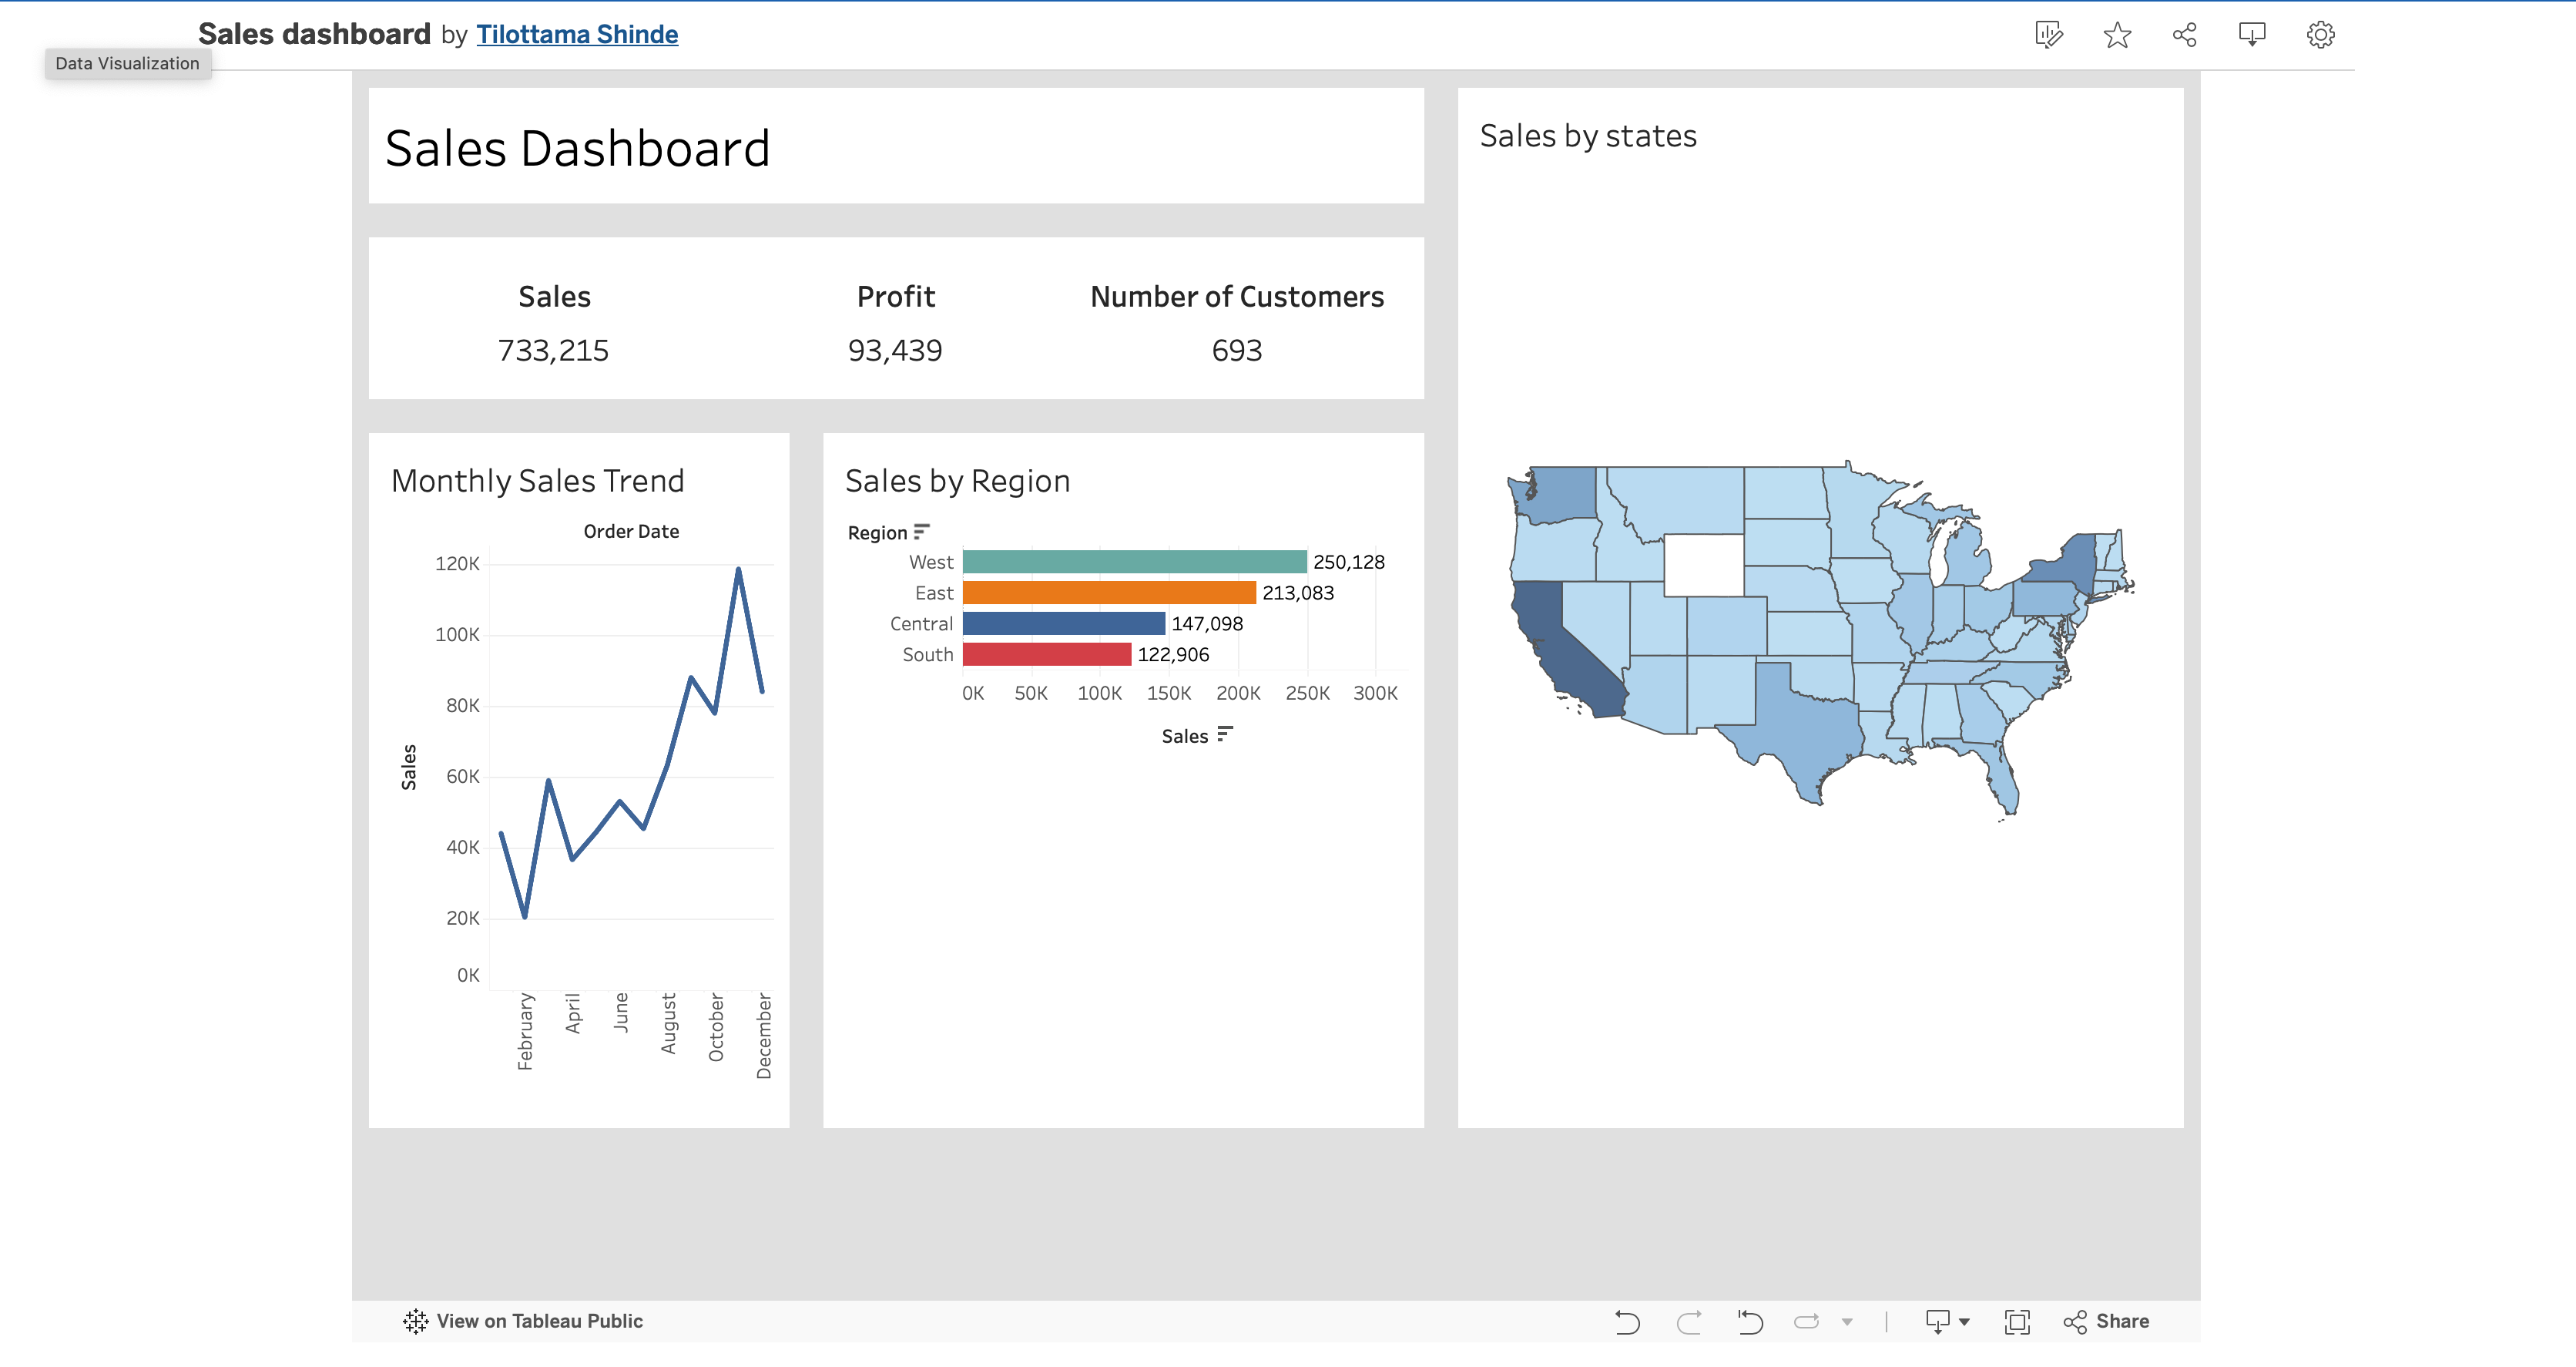

The dashboard page shown, as its layout file describes it:
{"tool":"tableau","page":{"name":"Dashboard 1","canvas":[1000,1000],"units":"permille","ordinal":0},"visuals":[{"type":"text","box":[0,0,589.2,141.2]},{"type":"worksheet","title":"Sales by states","mark":"Automatic","box":[589.2,0,410.8,873.4]},{"type":"worksheet","title":"KPIs","mark":"Automatic","box":[0,141.2,589.2,184.9]},{"type":"worksheet","title":"Monthly Sales Trend","mark":"Automatic","rows":["Sales"],"cols":["Order Date"],"box":[0,326.1,245.8,547.3]},{"type":"worksheet","title":"Sales by Region","mark":"Automatic","rows":["Region"],"cols":["Sales"],"box":[245.8,326.1,343.3,547.3]}]}

Visuals, with their boxes on the dashboard's canvas, which has no fixed pixel size, in thousandths of its width and height (x1, y1, x2, y2). These are canvas units, not pixel positions in the 2576x1367 screenshot, which may show the page scaled, cropped or inside an application window:
text: l=0, t=0, r=589, b=141
"Sales by states" worksheet: l=589, t=0, r=1000, b=873
"KPIs" worksheet: l=0, t=141, r=589, b=326
"Monthly Sales Trend" worksheet: l=0, t=326, r=246, b=873
"Sales by Region" worksheet: l=246, t=326, r=589, b=873
